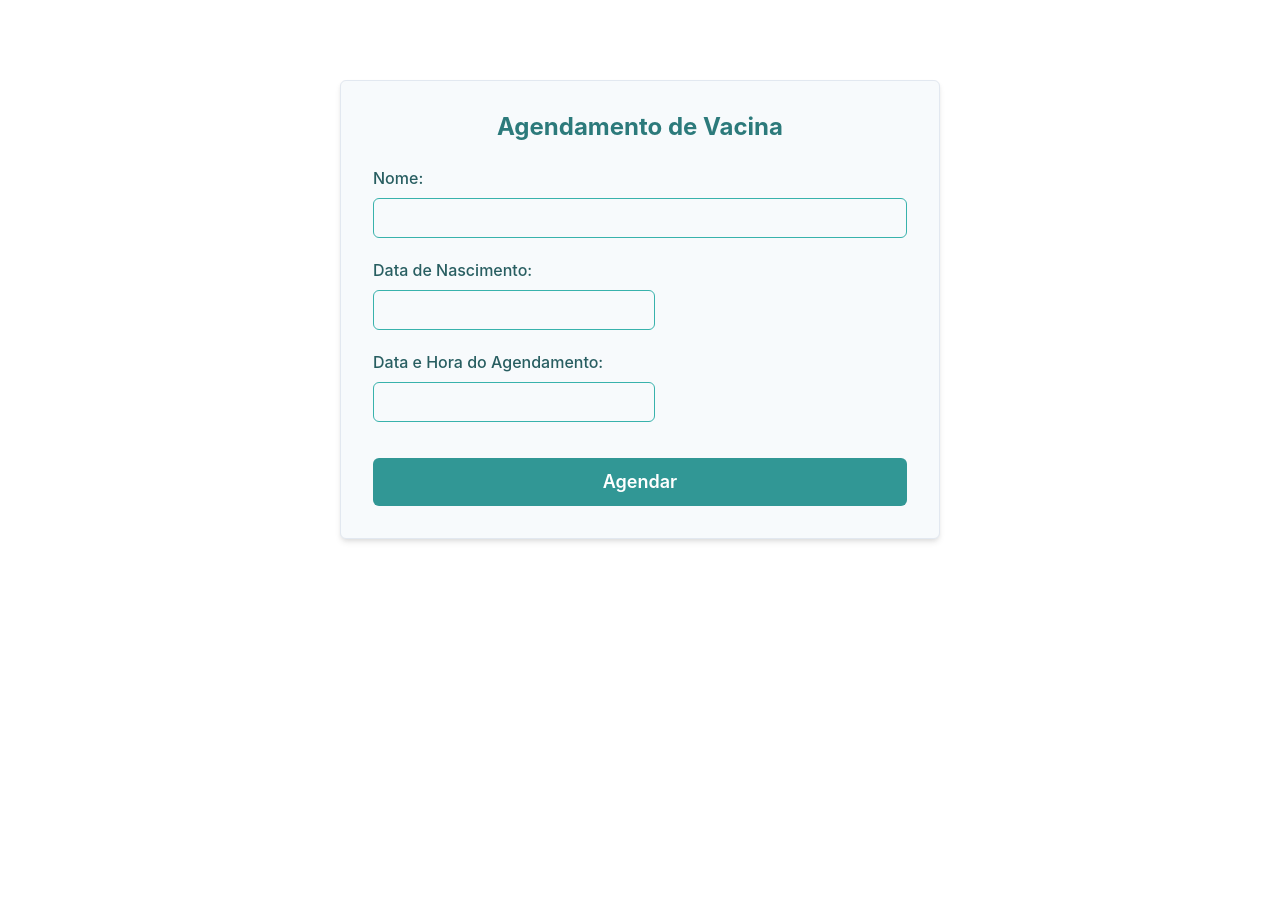
Test: <AppointmentForm/> › should submit appointment form successfully
Type "Leandro Junior" into the field labelled "Nome:".
click(640, 218); type("Leandro Junior")  # box x1=373 y1=198 x2=907 y2=238
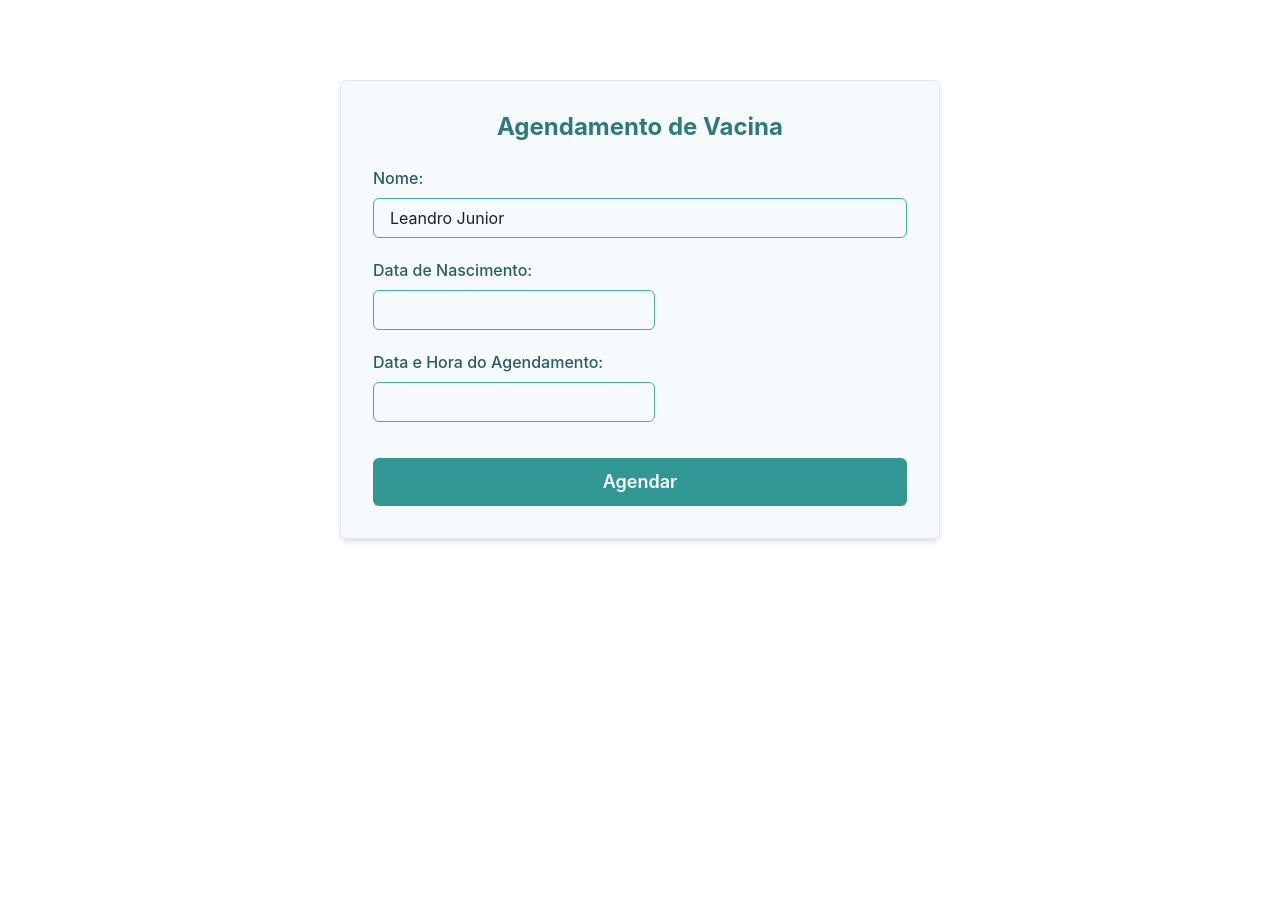
Type "2000-02-02" into the field labelled "Data de Nascimento:".
click(514, 310); type("2000-02-02")  # box x1=373 y1=290 x2=655 y2=330
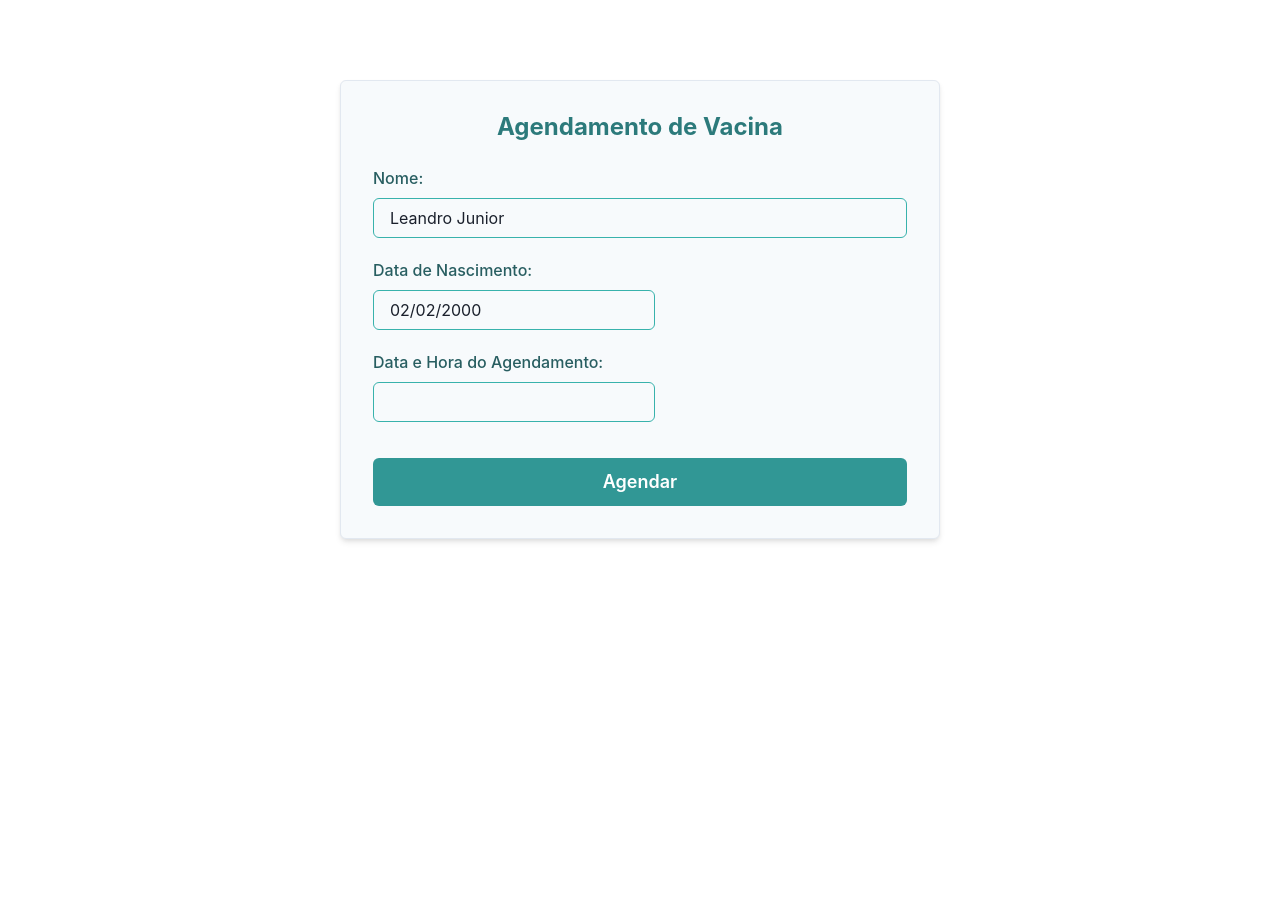
Type "2025-07-10T16:00:00.000Z" into the field labelled "Data e Hora do Agendamento:".
click(514, 402); type("2025-07-10T16:00:00.000Z")  # box x1=373 y1=382 x2=655 y2=422
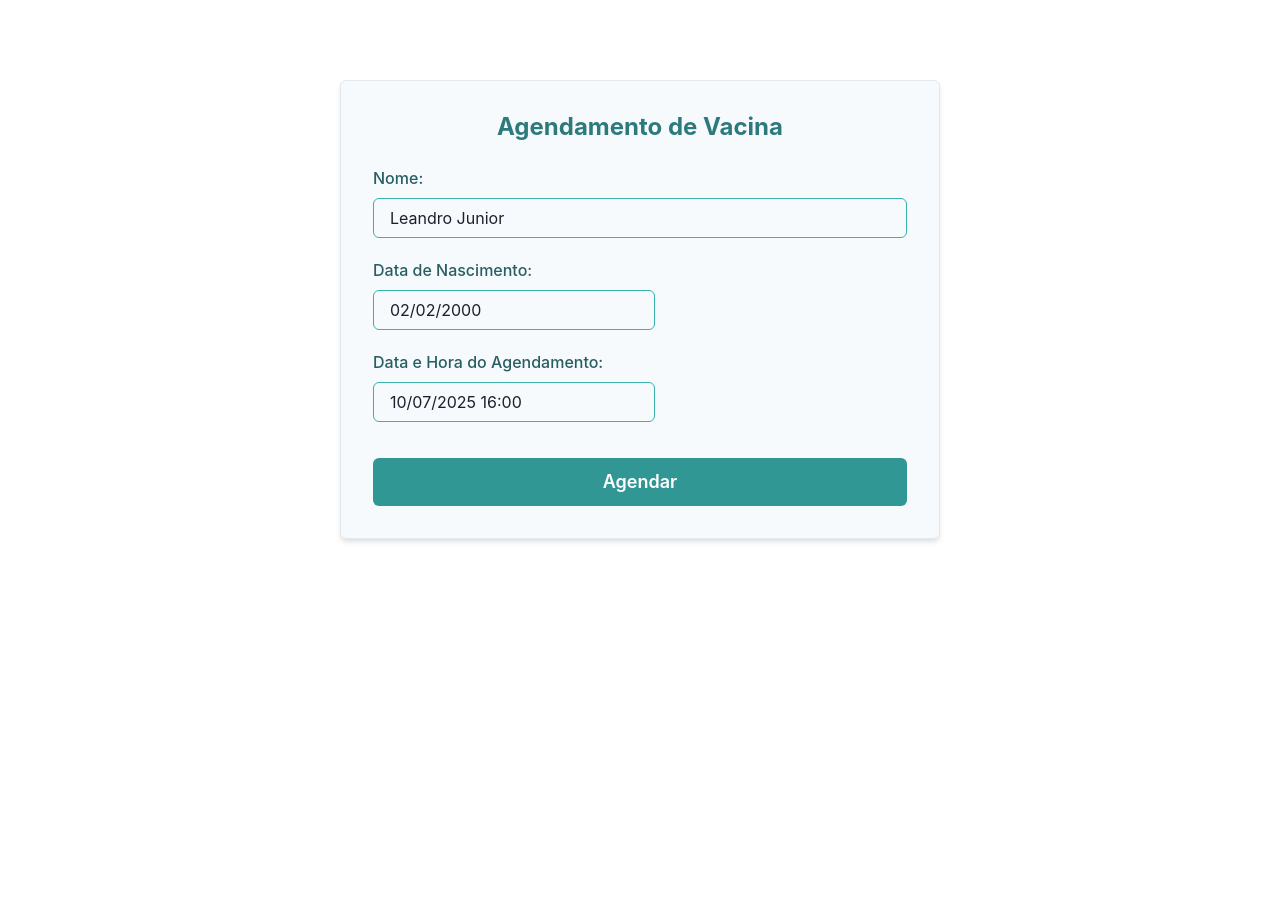
Click the button "Agendar".
click(640, 482)  # box x1=373 y1=458 x2=907 y2=506
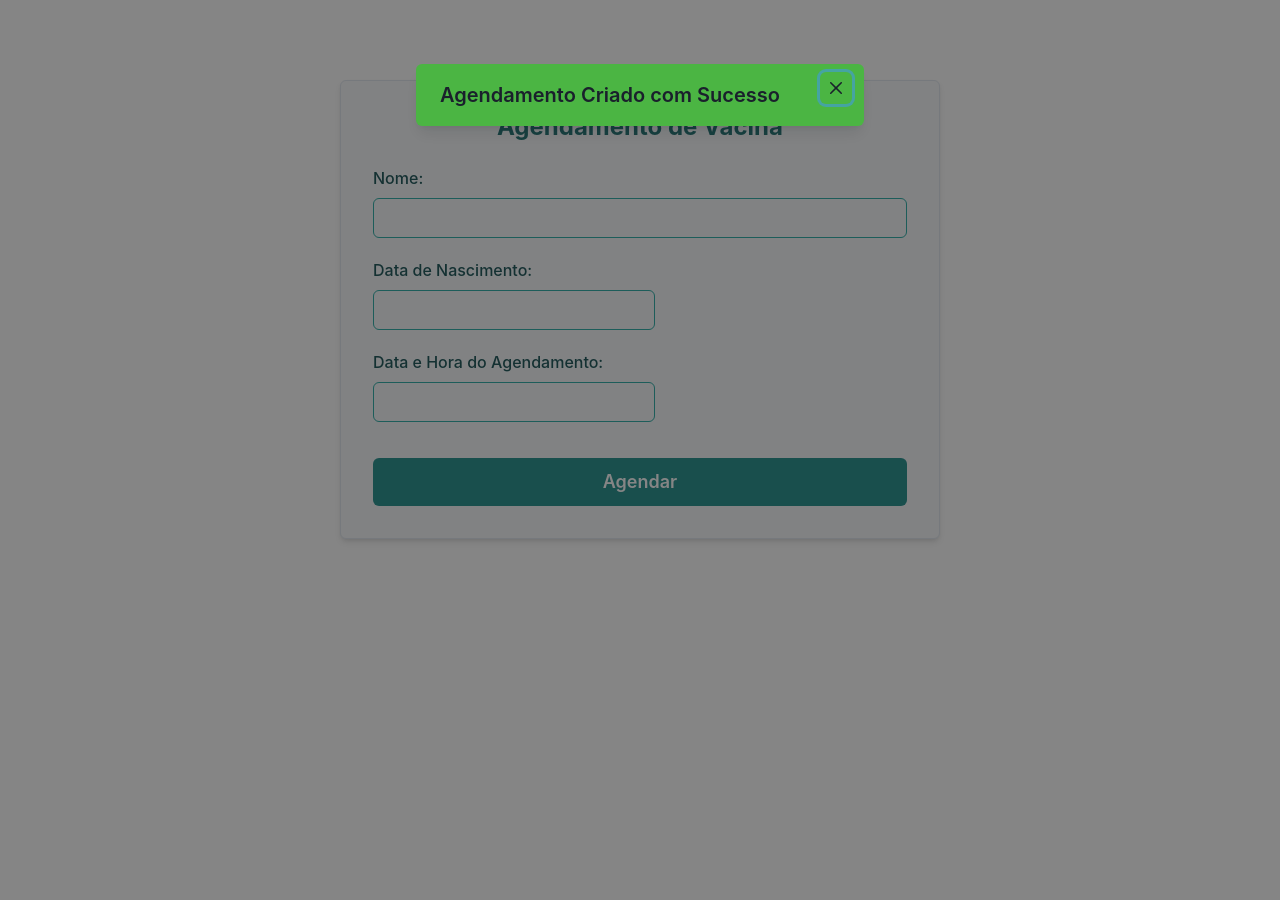
Expected: the text "Agendamento Criado com Sucesso" is shown, x1=440 y1=83 x2=780 y2=107
